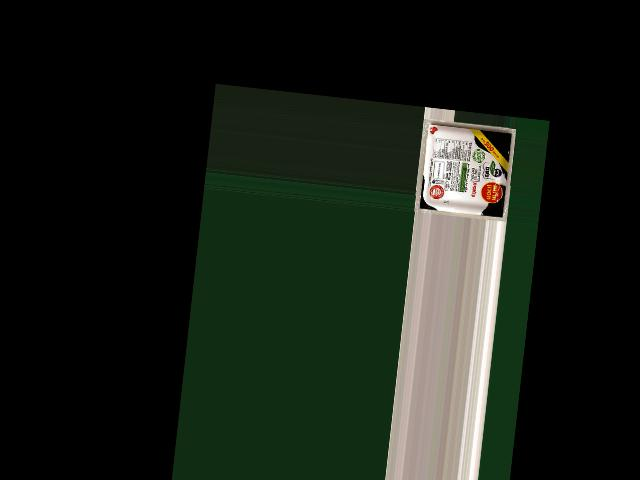cheese: (421, 119, 510, 218)
